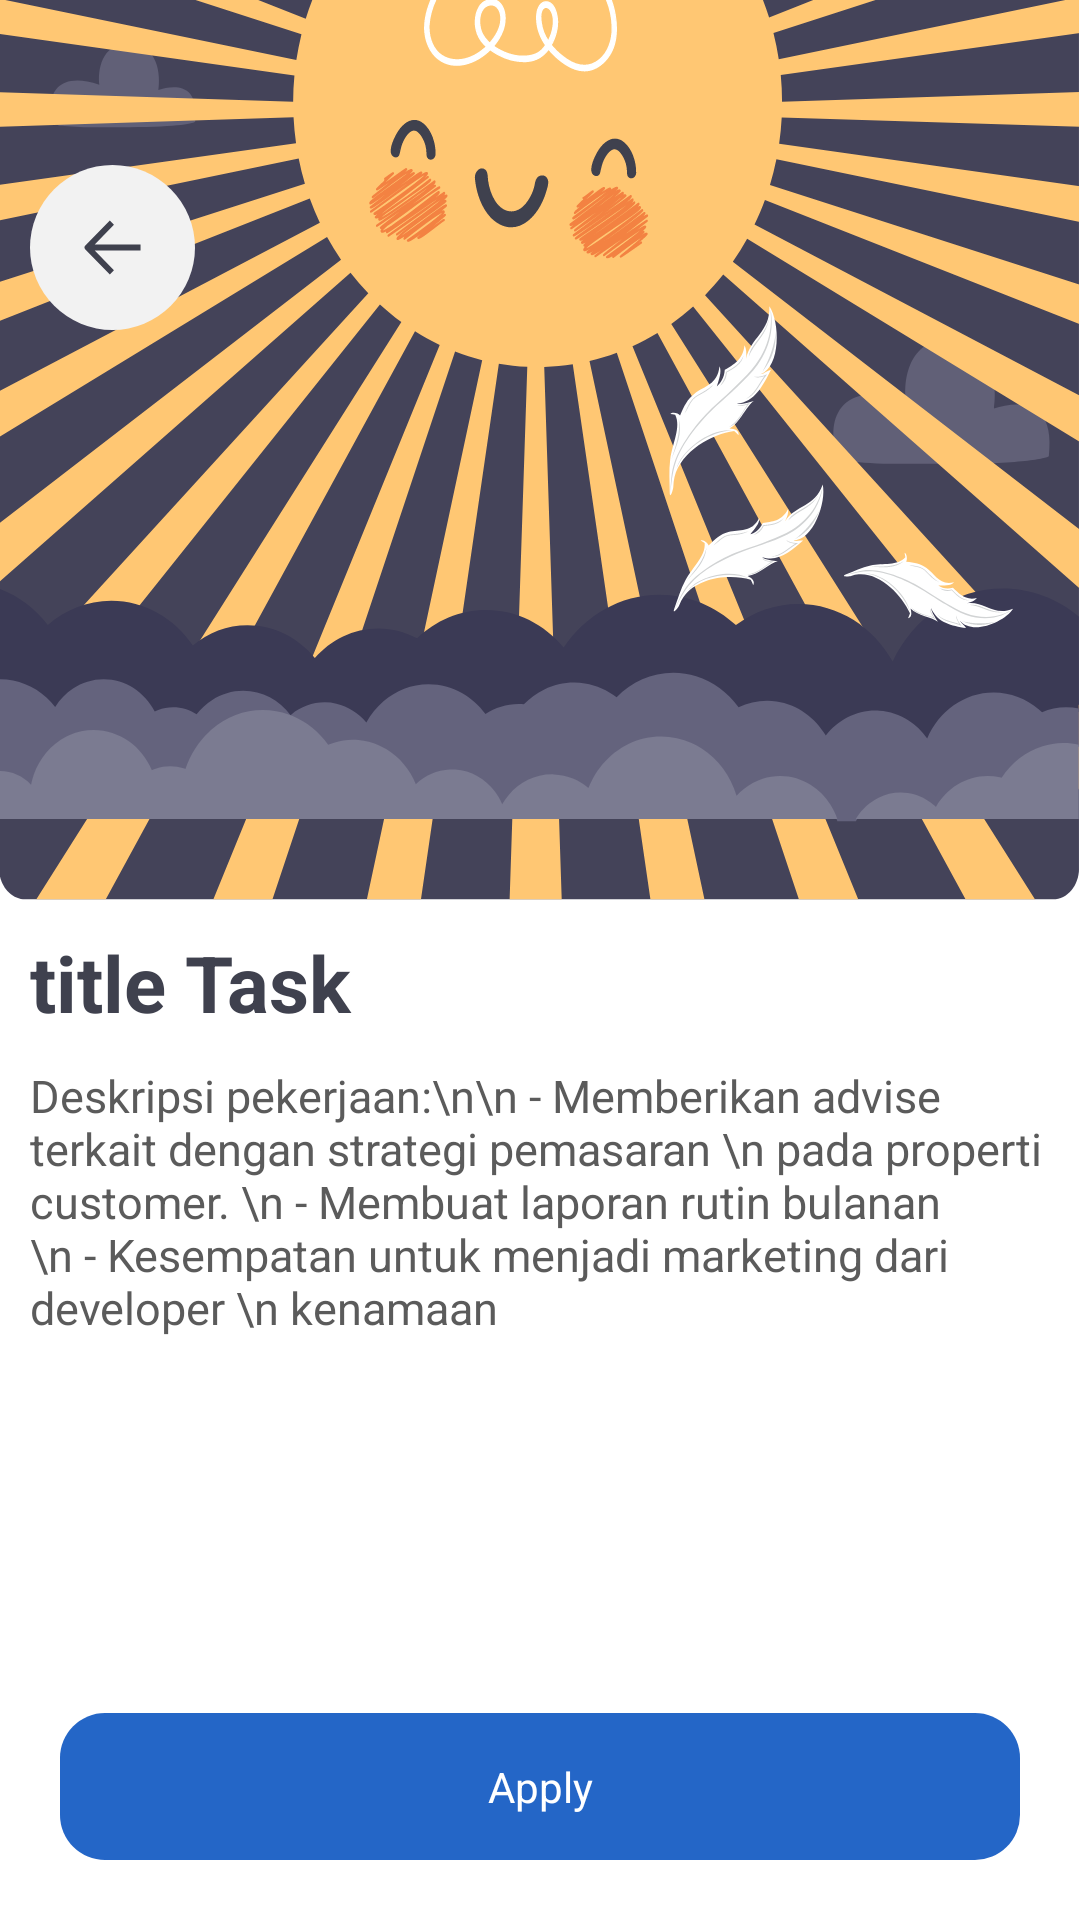

Icon click points for this 1080 × 1920 phone screenshot, format [x,y]:
back: [112,247]
